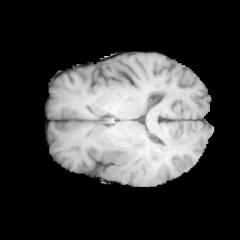glioma: (101, 138, 167, 181)
